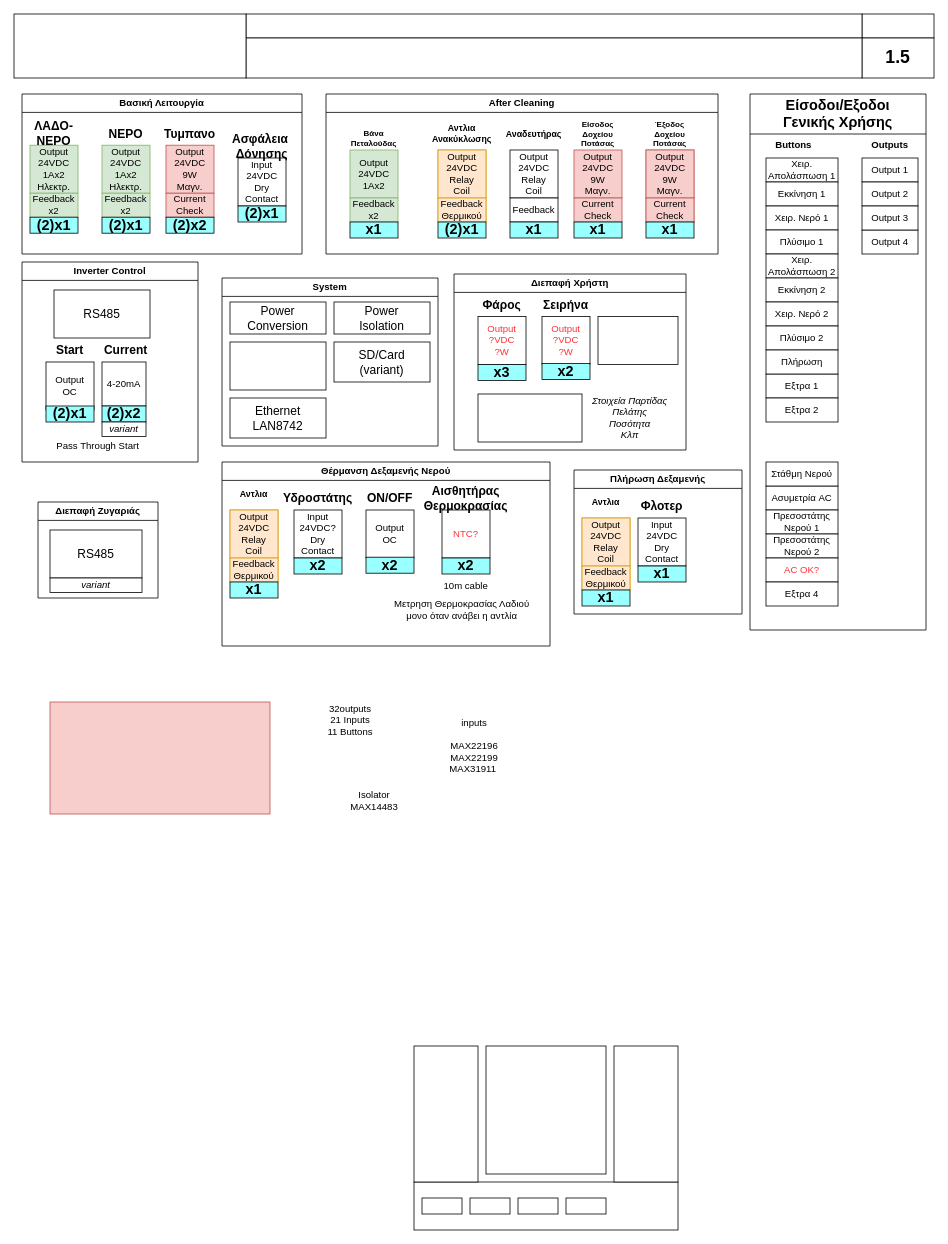
Image size: 948x1244. Some labels were removed from this diagram. The centre of each missing label's shape, as x and y in pixels:
"DRV89xx TLE8108EM TLE8718 TLE7230R TLE75xx up to 330mA MAX14917" belongs at pixel 159 757.
"Microcontroller STM 3 2 F 4 2 9 BIT6" belongs at pixel 277 365.
"RGB Ledstrip Driver" belongs at pixel 637 340.
"Serial to Touch Screen" belongs at pixel 529 417.
"Έκδοση" belongs at pixel 897 25.
"Διάγραμμα υποσυστημάτων Συλογή απαιτήσεων Hardware" belongs at pixel 129 45.
"Διαχωριστής Ελεόλαδου" belongs at pixel 553 57.
"Τίτλος" belongs at pixel 553 25.
